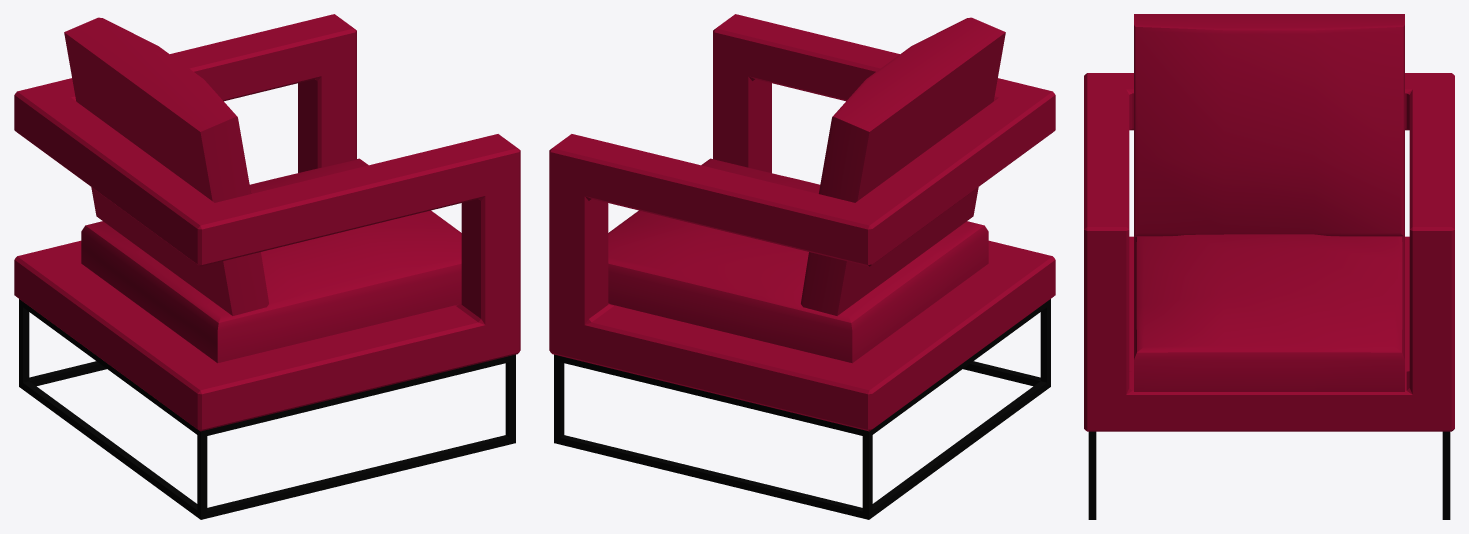
Rendered from Chair 1 Red.glb.
3 renders of one model, left to right at view 1: azimuth 30°, elevation 25°; view 2: azimuth 150°, elevation 25°; view 3: azimuth 270°, elevation 25°, orthographic.
Parts seen in each view (by area): view 1: Chair 1; view 2: Chair 1; view 3: Chair 1.
Boxes of the visible parts, box(x1,y1,x2,y2) form: Chair 1: box(14, 14, 520, 519); Chair 1: box(549, 14, 1055, 519); Chair 1: box(1084, 14, 1454, 519).
Size of what is drawn, in the model's own units: 1.25 by 1.38 by 1.25.
1 material, 1 textured.
